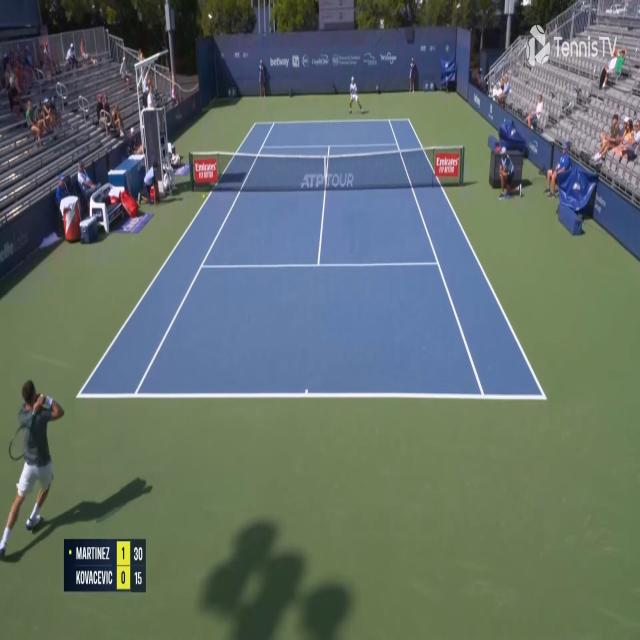tennis-player: (2, 374, 67, 556), (348, 76, 363, 115)
